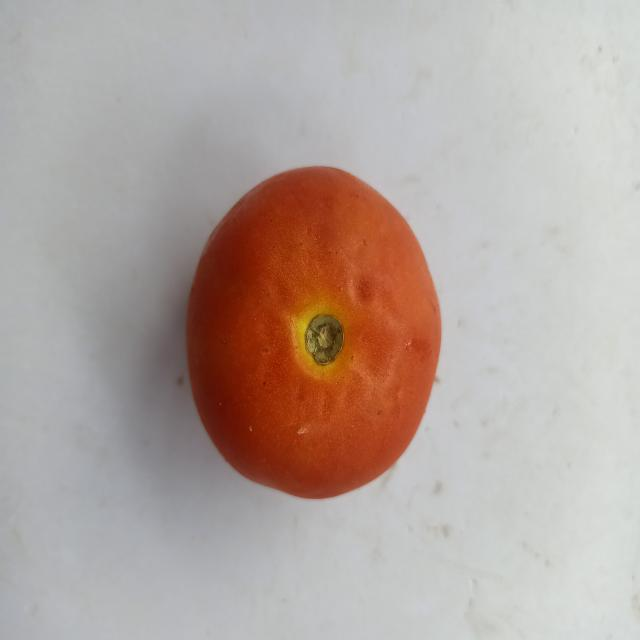Tomato: (164, 139, 454, 561)
